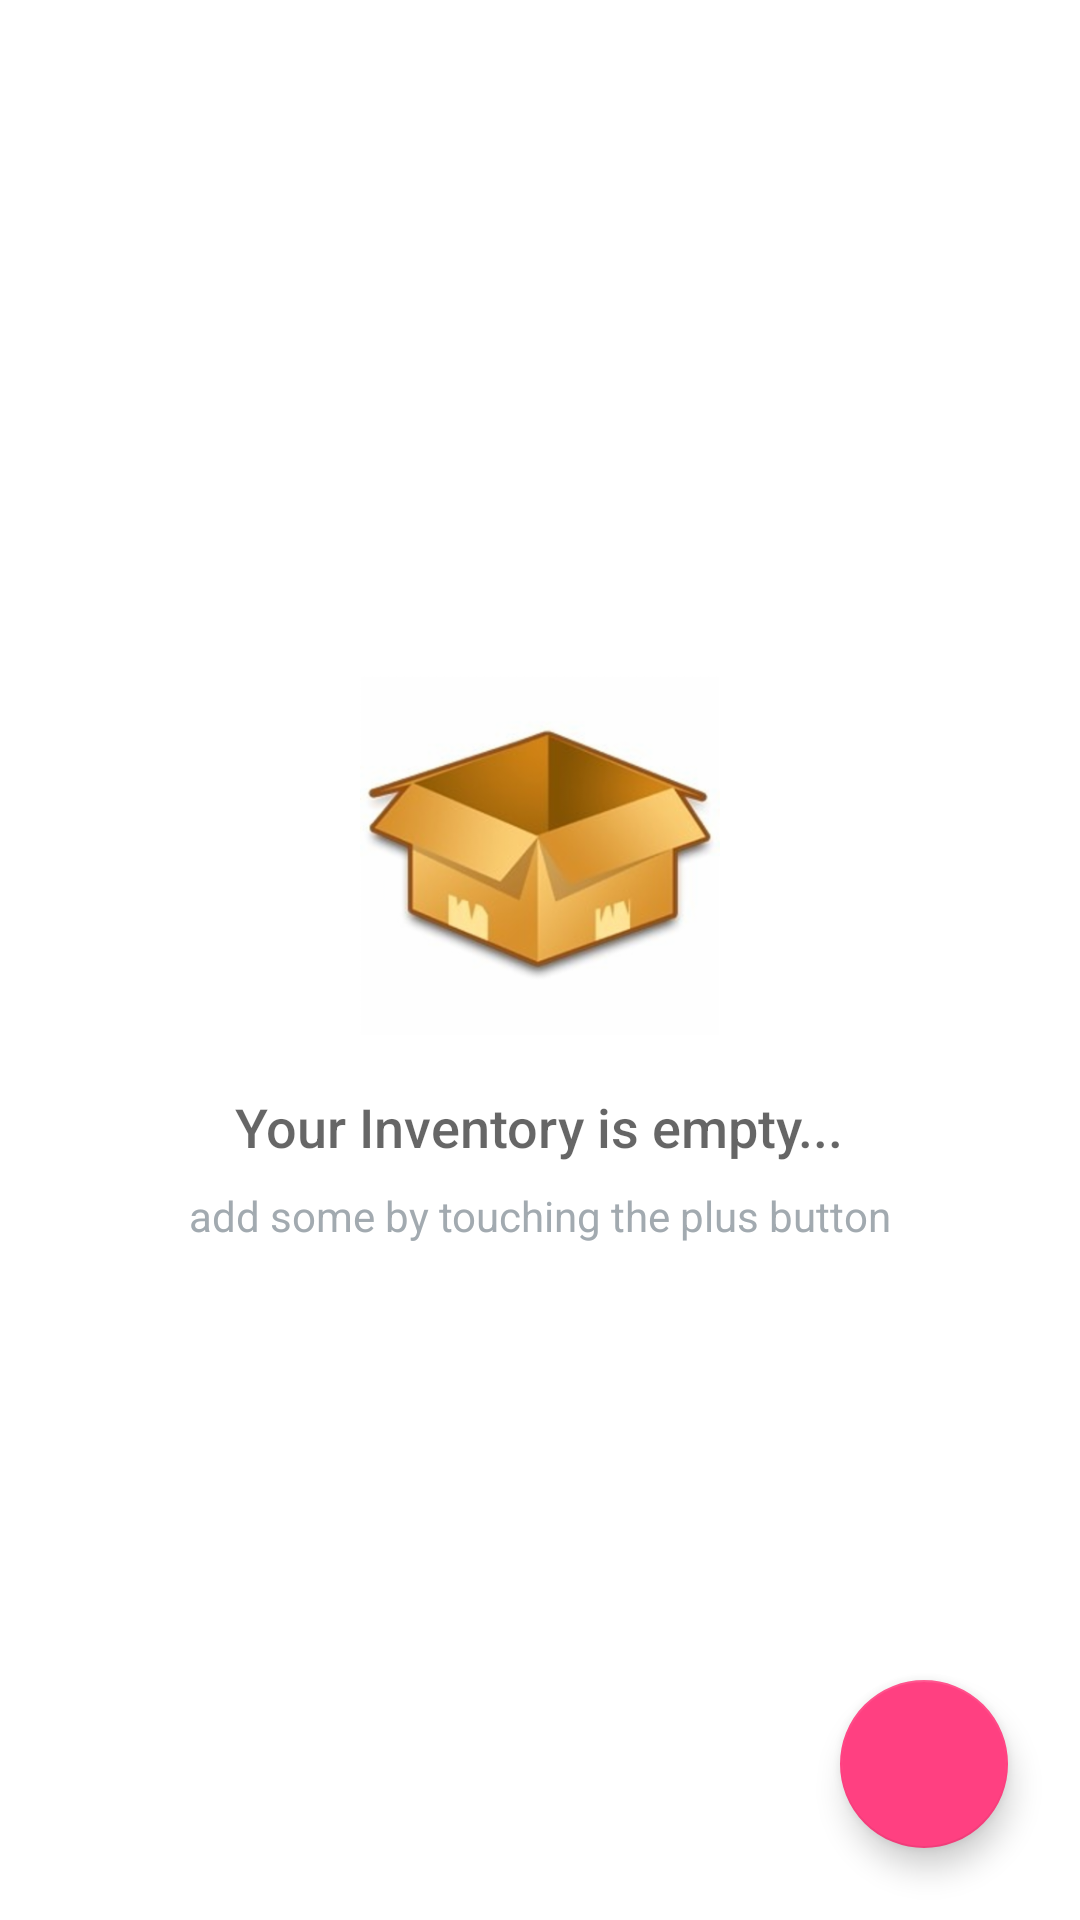

Icons on this 1080w x 1920h Android screen, each with the point to tap as (x=x, y=y):
emptybox: (x=540, y=852)
